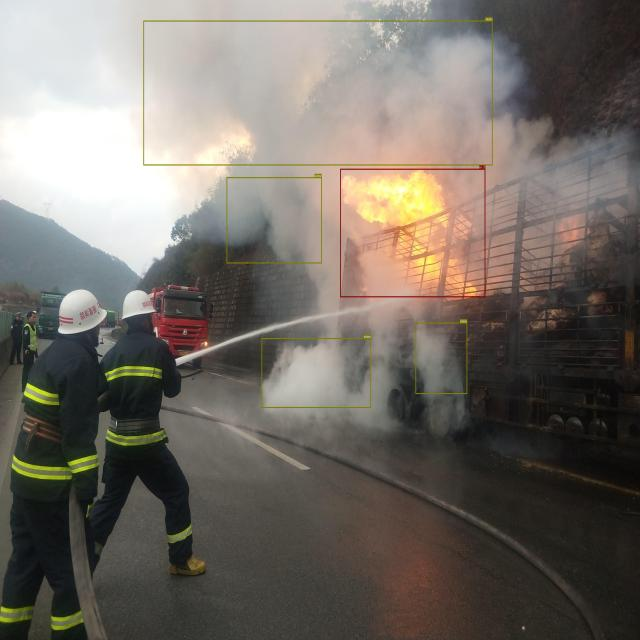fire: (340, 169, 486, 297)
smoke: (144, 21, 493, 165), (227, 177, 322, 263), (262, 338, 371, 408), (416, 322, 468, 394)
